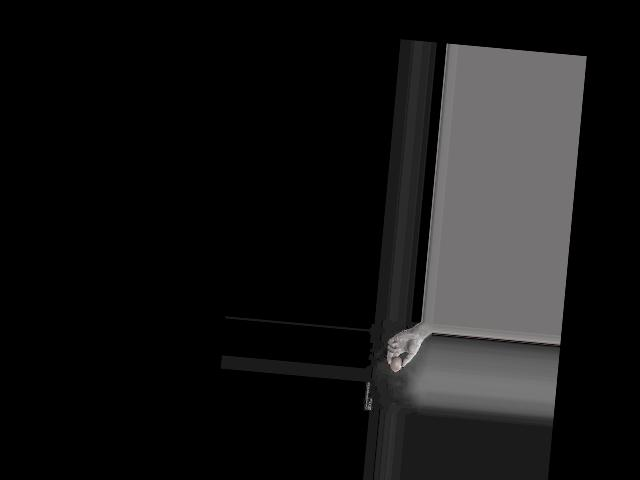egg: (390, 355, 402, 371)
